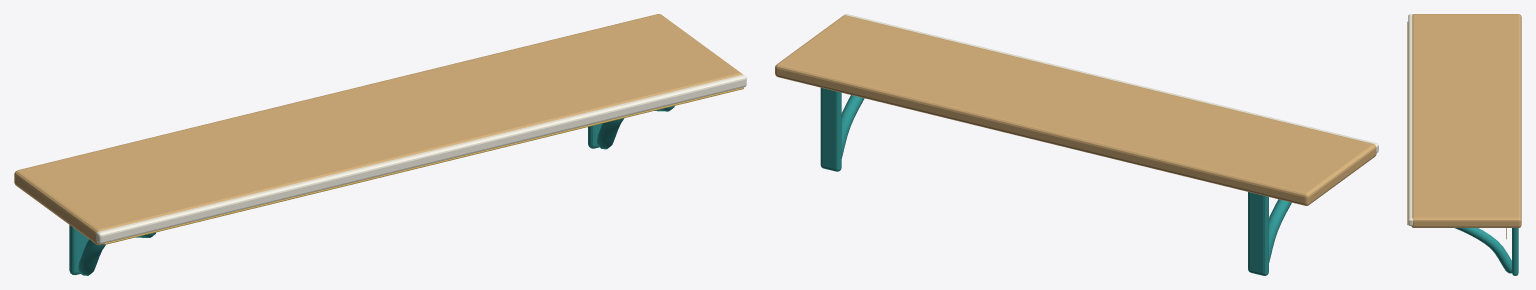
File: shelf_wide.glb
3 views of the same model, side by side, from view 1: azimuth 30°, elevation 25°; view 2: azimuth 150°, elevation 25°; view 3: azimuth 270°, elevation 25° (orthographic). The views are drawn at different scales.
Parts seen in each view (by area): view 1: Wood_shelf_plank, Cream_front_lip, Fine_brass_inlay, Curved_botanical_bracket, Bracket_wall_plate, Curved_botanical_bracket.001; view 2: Wood_shelf_plank, Bracket_wall_plate.001, Bracket_wall_plate, Cream_front_lip, Curved_botanical_bracket.001, Curved_botanical_bracket; view 3: Wood_shelf_plank, Cream_front_lip, Curved_botanical_bracket.001, Fine_brass_inlay, Bracket_wall_plate.001.
Part boxes in pixels (box(x1,y1,x2,y2)): Wood_shelf_plank: box(14, 14, 742, 245); Cream_front_lip: box(96, 74, 746, 244); Fine_brass_inlay: box(104, 87, 743, 244); Curved_botanical_bracket: box(78, 232, 155, 275); Bracket_wall_plate: box(69, 225, 88, 275); Curved_botanical_bracket.001: box(597, 106, 674, 149); Wood_shelf_plank: box(775, 15, 1376, 205); Bracket_wall_plate.001: box(820, 88, 841, 171); Bracket_wall_plate: box(1248, 192, 1268, 275); Cream_front_lip: box(844, 14, 1378, 152); Curved_botanical_bracket.001: box(841, 95, 864, 158); Curved_botanical_bracket: box(1269, 199, 1291, 262); Wood_shelf_plank: box(1411, 14, 1521, 227); Cream_front_lip: box(1408, 14, 1413, 225); Curved_botanical_bracket.001: box(1455, 228, 1511, 273); Fine_brass_inlay: box(1407, 21, 1408, 224); Bracket_wall_plate.001: box(1512, 228, 1518, 275).
Size of the model in its own units: 1.5 by 0.255 by 0.3515.
